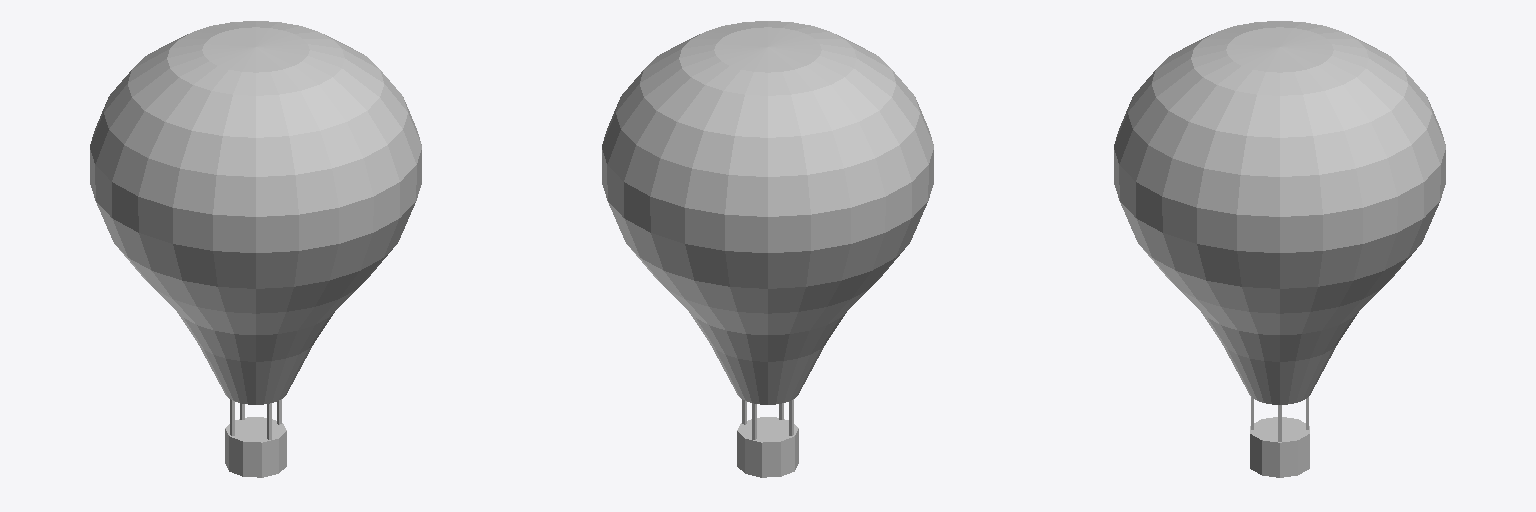
The model's file is hotAirBalloon.obj.
3 renders of one model, left to right at view 1: azimuth 30°, elevation 25°; view 2: azimuth 150°, elevation 25°; view 3: azimuth 270°, elevation 25°, orthographic.
Parts seen in each view (by area): view 1: HotAirBalloon; view 2: HotAirBalloon; view 3: HotAirBalloon.
Boxes of the visible parts, x1,y1,x2,y2 form: HotAirBalloon: [90, 21, 421, 477]; HotAirBalloon: [602, 21, 933, 477]; HotAirBalloon: [1114, 21, 1445, 477].
Bounding box in the file's own units: 21.42 × 29.67 × 21.42.